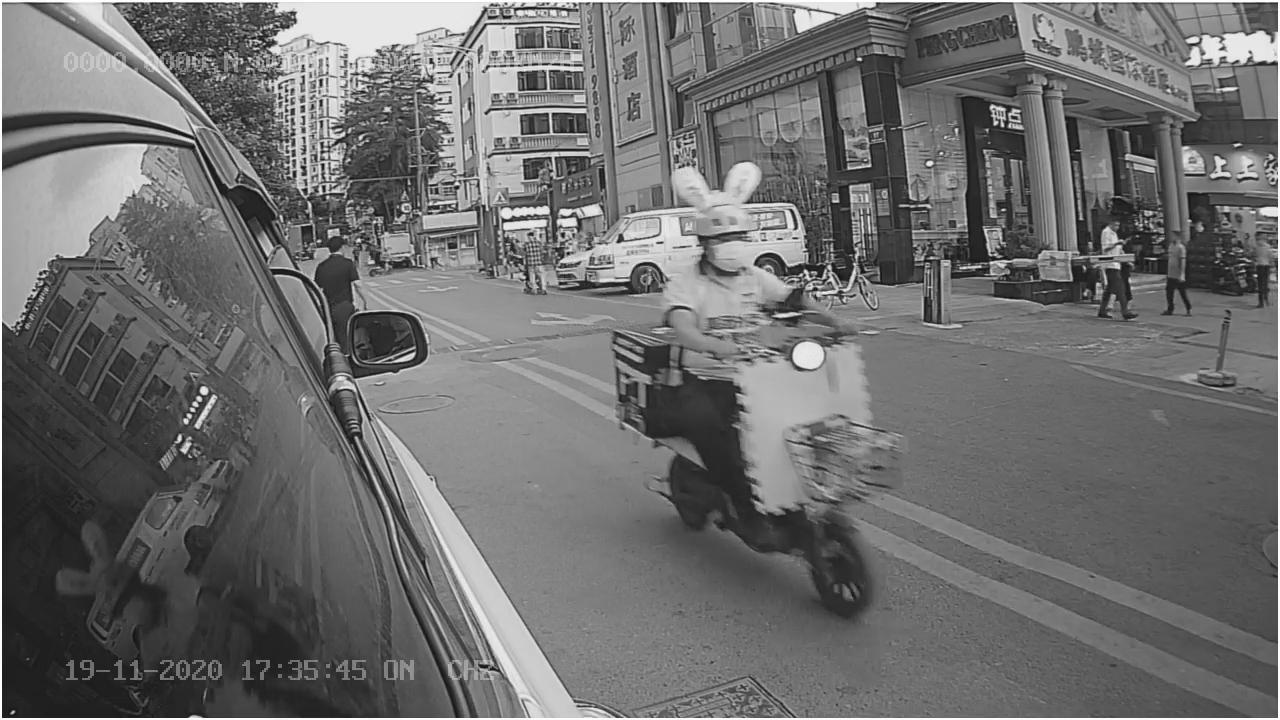person: (664, 211, 802, 330)
